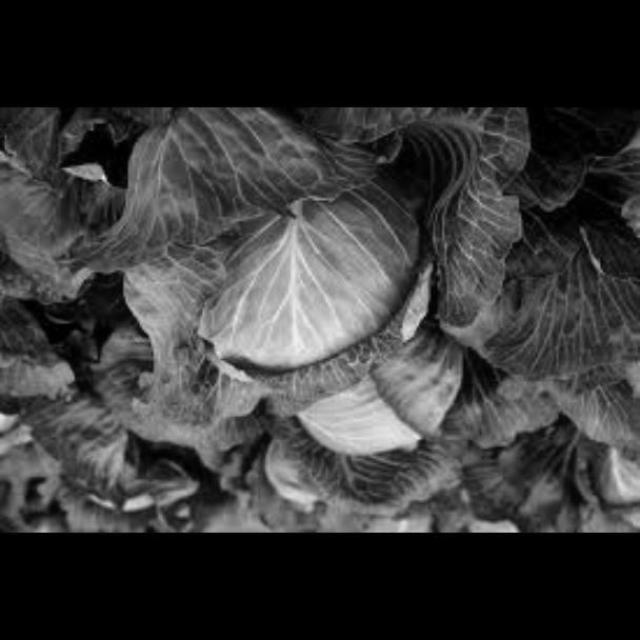cabbage: (174, 140, 462, 388), (281, 281, 555, 492), (0, 108, 187, 346), (474, 110, 640, 370), (77, 380, 279, 534), (529, 382, 639, 524)
